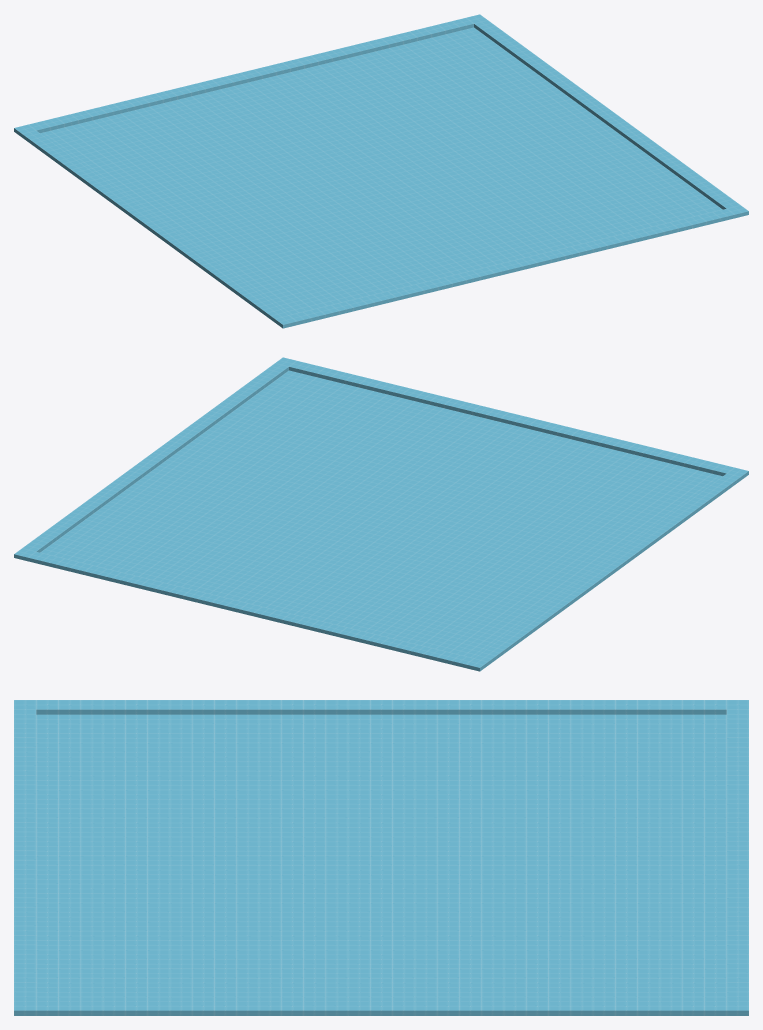
3 views of the same model, one above another, from view 1: azimuth 30°, elevation 25°; view 2: azimuth 150°, elevation 25°; view 3: azimuth 270°, elevation 25° (orthographic). The views are drawn at different scales.
Parts seen in each view (by area): view 1: scene_04; view 2: scene_04; view 3: scene_04.
Boxes of the visible parts, box(x1,y1,x2,y2) form: scene_04: box(14, 14, 748, 328); scene_04: box(14, 357, 748, 671); scene_04: box(14, 700, 748, 1015).
Bounding box in the file's own units: 49.5 × 0.375 × 49.5.
